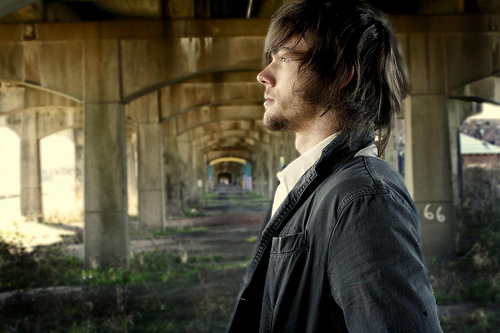male: (222, 1, 445, 333)
